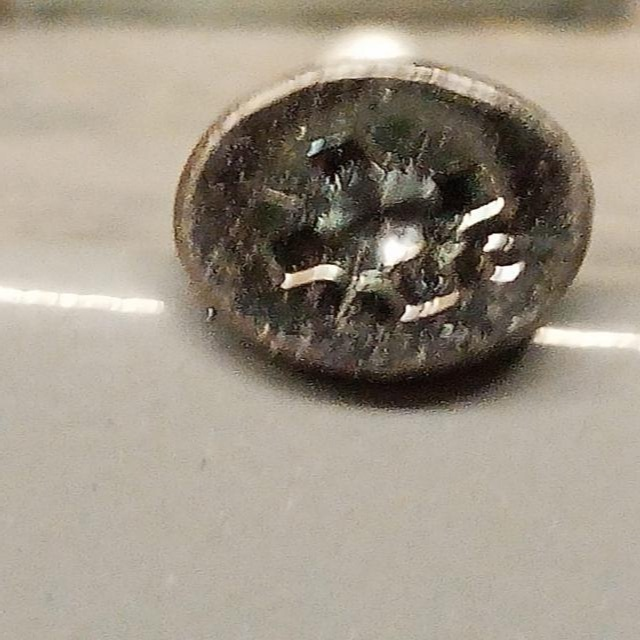pozidriv: (169, 58, 597, 384)
